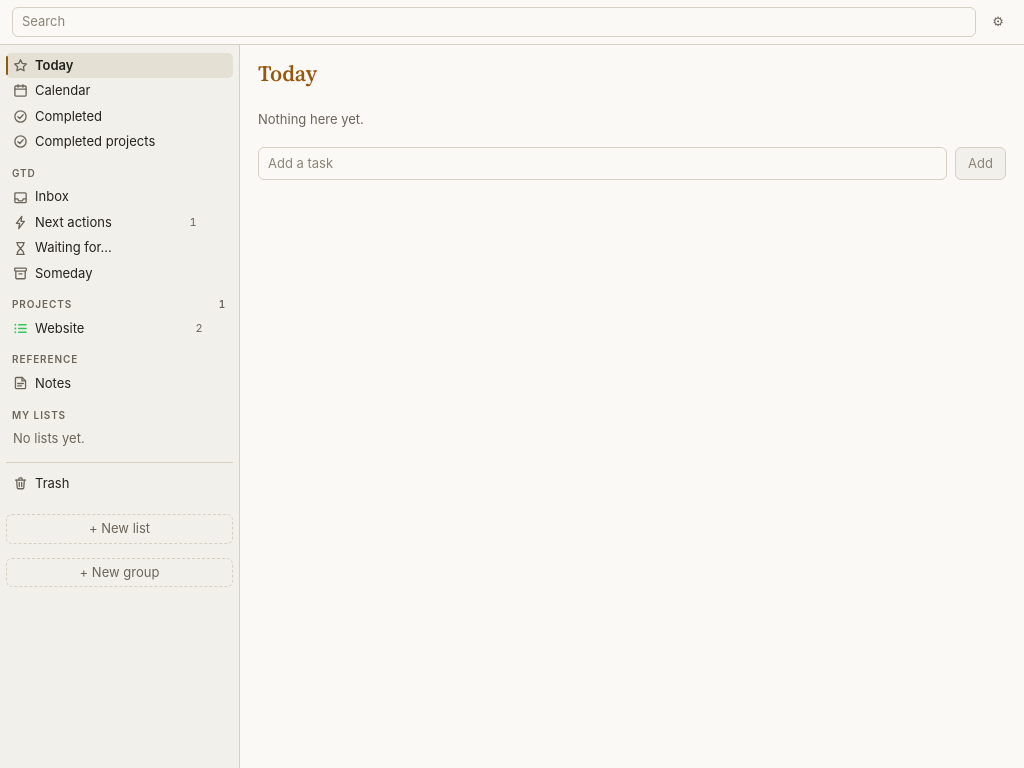
the Next actions mirror, rendered › does not tag rows in the project’s own list
Click the button "Website 2" at (108, 329), box [6, 316, 210, 341]
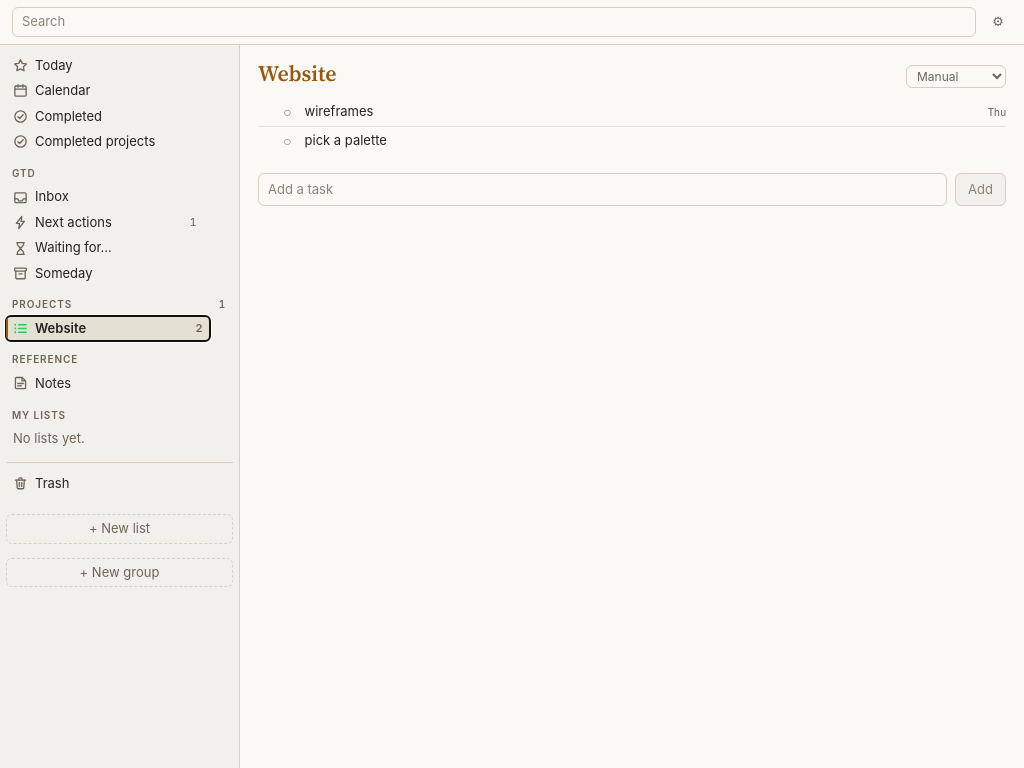
expect the text "wireframes" is shown: met, box [304, 104, 373, 121]
